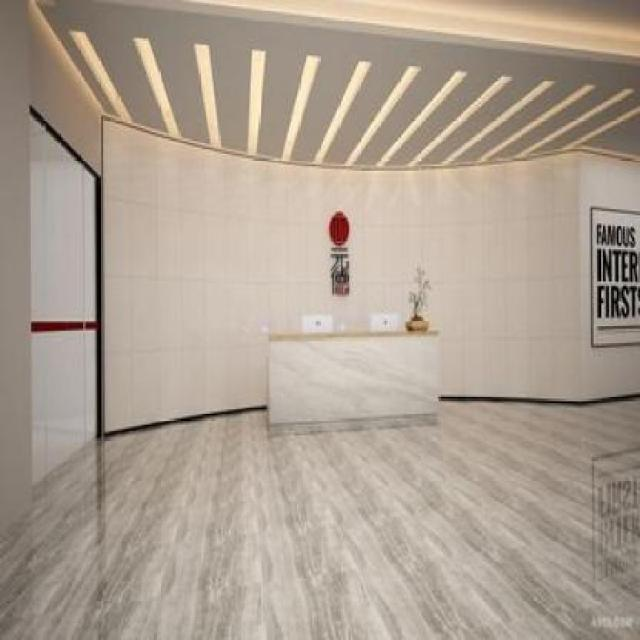frontdesk: (264, 310, 444, 444)
